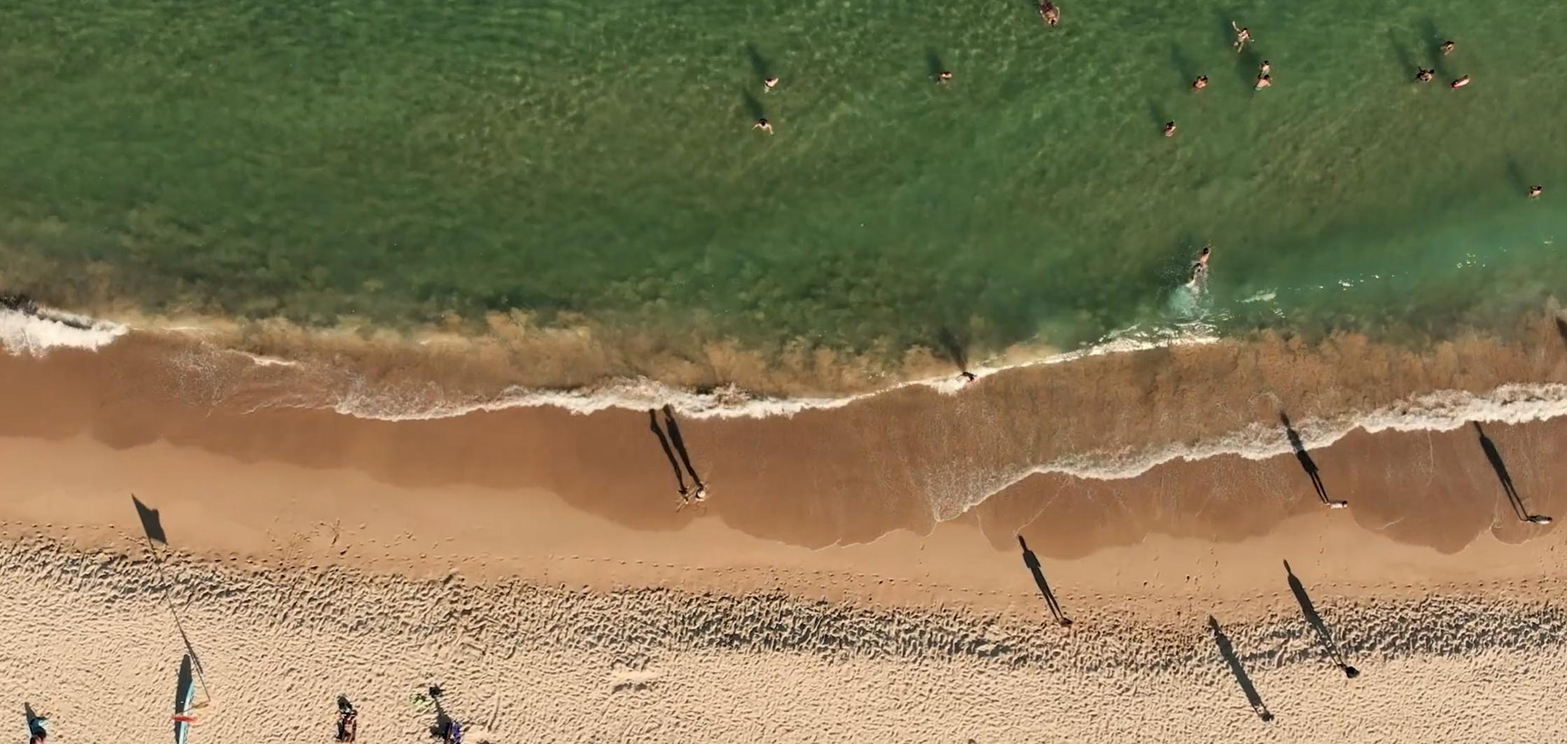swimmer: (177, 679, 198, 744), (1229, 16, 1257, 56), (1188, 242, 1212, 286), (749, 114, 780, 140), (23, 718, 53, 744), (1035, 0, 1063, 26), (931, 65, 958, 87), (341, 711, 358, 744), (1190, 69, 1208, 98), (442, 720, 462, 744), (760, 72, 784, 91), (677, 485, 697, 507), (1523, 514, 1555, 526), (1254, 72, 1273, 92), (1525, 181, 1543, 202), (1417, 67, 1432, 89), (693, 481, 707, 504), (1159, 118, 1175, 138), (1450, 73, 1470, 89), (1343, 664, 1363, 680), (1439, 38, 1456, 55), (1059, 613, 1076, 630), (960, 371, 978, 387), (1328, 498, 1349, 510), (1259, 58, 1268, 84), (1261, 711, 1275, 724)
